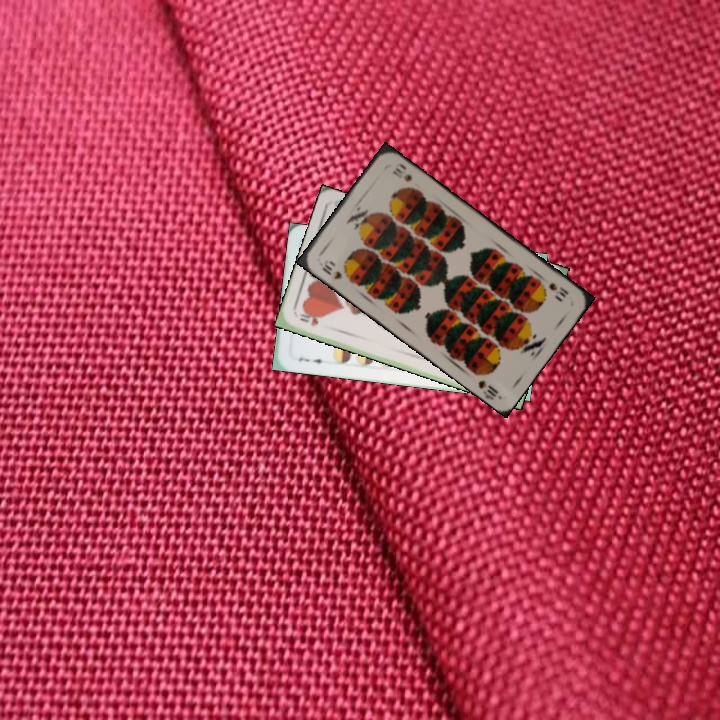E7: (294, 353, 328, 366)
HO: (295, 309, 321, 329)
S10: (318, 256, 345, 282), (545, 279, 571, 302)
